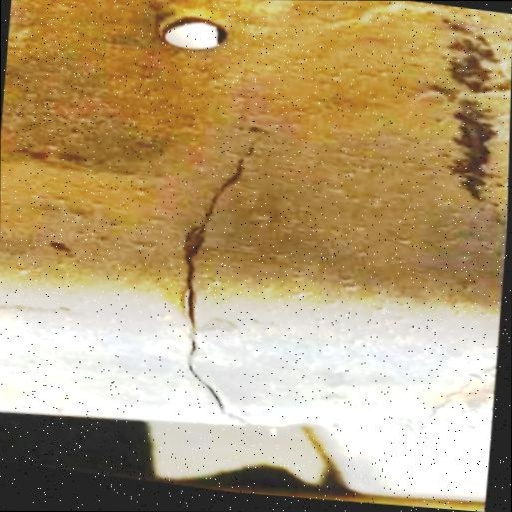crack: (159, 129, 270, 430)
